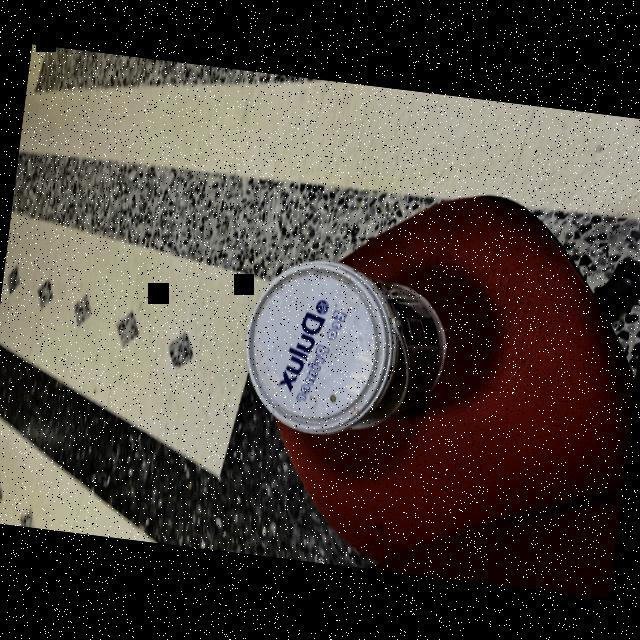paint_bucket: (234, 247, 464, 450)
